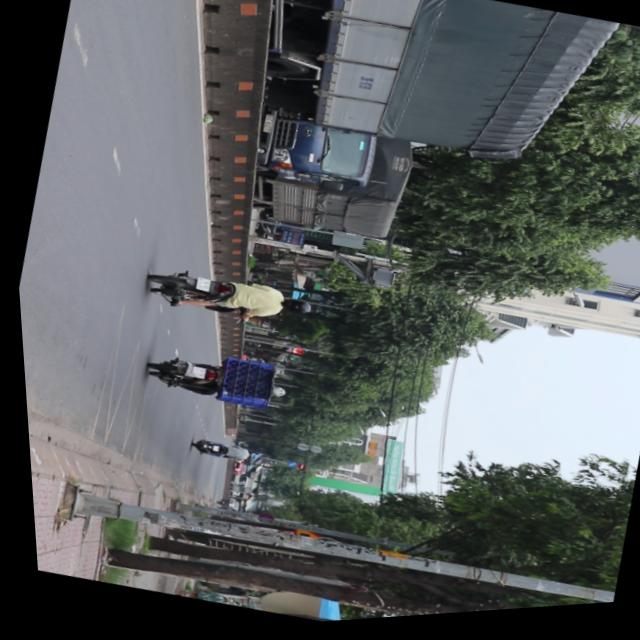helmet: (277, 298, 310, 320)
licenseplate: (139, 254, 314, 343)
nohelmet: (190, 278, 207, 294)
